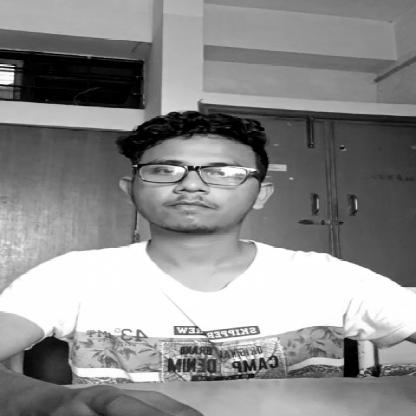Normal: (143, 134, 280, 251)
